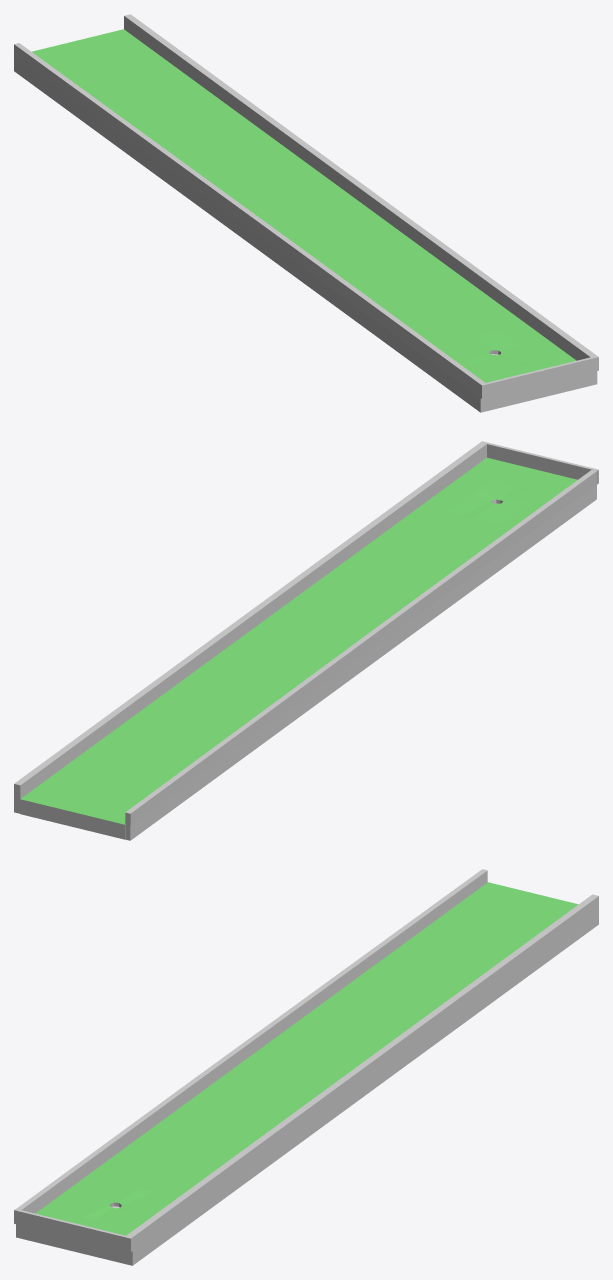
The model's file is hole1.fbx.
3 views of the same model, one above another, from view 1: azimuth 30°, elevation 25°; view 2: azimuth 150°, elevation 25°; view 3: azimuth 330°, elevation 25° (orthographic).
Visible parts, largest first — view 1: Cube; view 2: Cube; view 3: Cube.
Part boxes in pixels (left/top/right/bottom): Cube: left=14, top=14, right=598, bottom=412; Cube: left=14, top=441, right=598, bottom=840; Cube: left=14, top=869, right=598, bottom=1265.
Bounding box in the file's own units: 223 × 52.08 × 1549.
